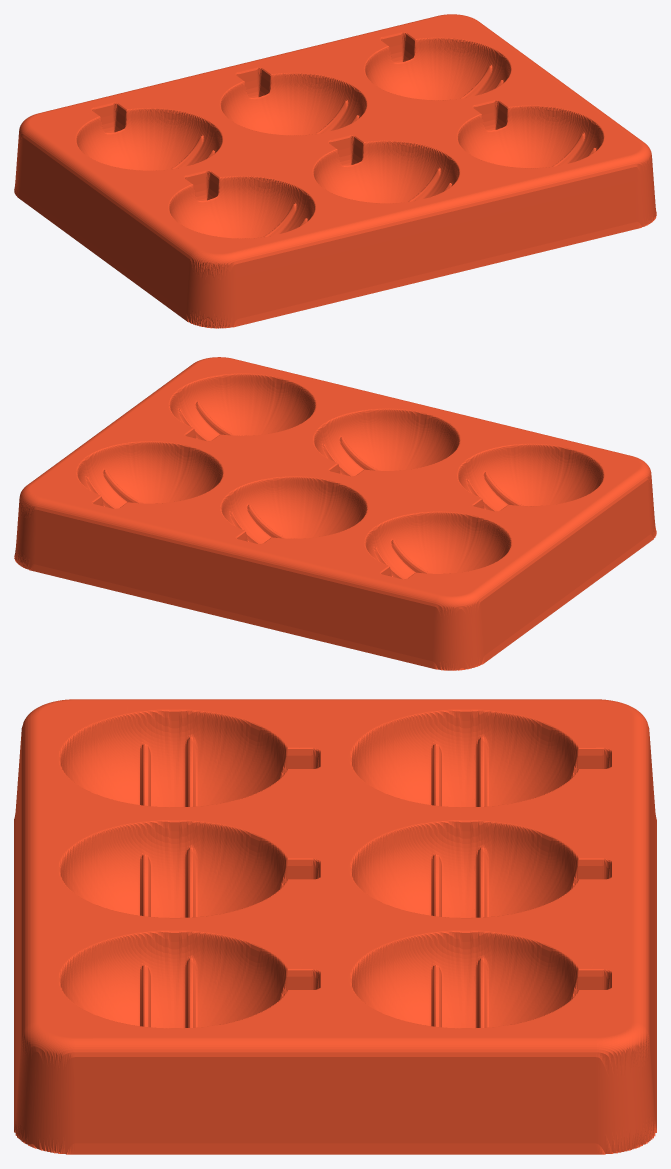
The model's file is mold.glb.
3 renders of one model, top to bottom at view 1: azimuth 30°, elevation 25°; view 2: azimuth 150°, elevation 25°; view 3: azimuth 270°, elevation 25°, orthographic. The views are drawn at different scales.
Parts seen in each view (by area): view 1: geometry_0; view 2: geometry_0; view 3: geometry_0.
Part boxes in pixels (x1,y1,x2,y2): geometry_0: [14, 14, 656, 328]; geometry_0: [14, 357, 656, 670]; geometry_0: [14, 699, 656, 1154].
Size of the model in its own units: 0.1255 by 0.0175 by 0.0955.
